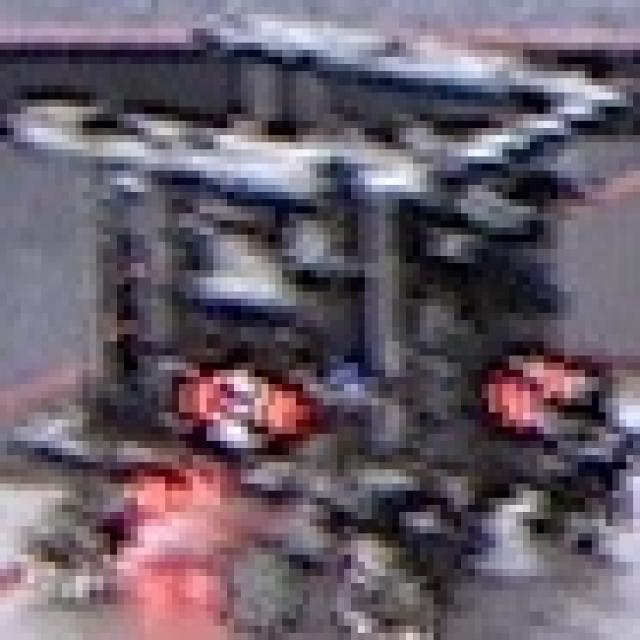R2: (172, 342, 296, 469)
